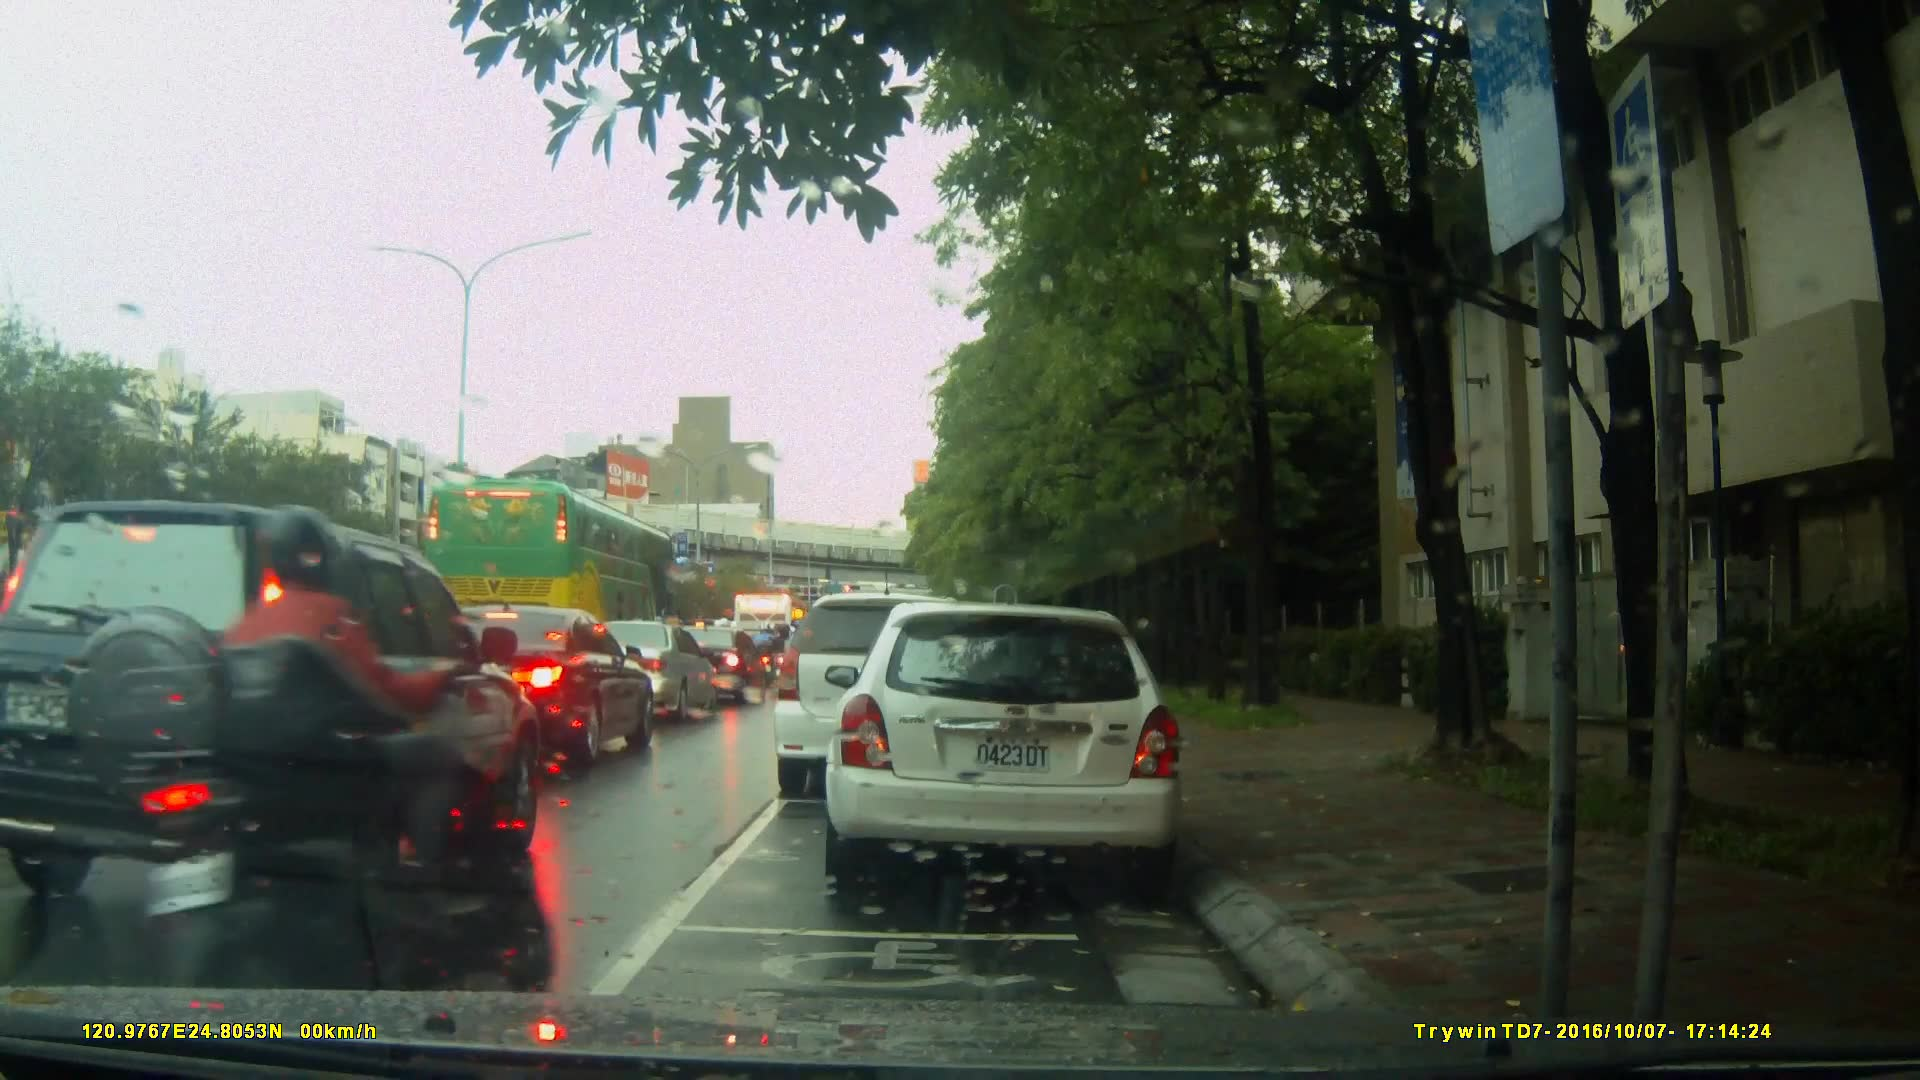rider: (146, 504, 548, 1023)
vehicle: (5, 497, 534, 917), (831, 592, 1196, 897), (417, 476, 680, 659), (774, 595, 999, 801), (412, 605, 661, 768), (578, 618, 720, 724), (674, 627, 769, 707)
